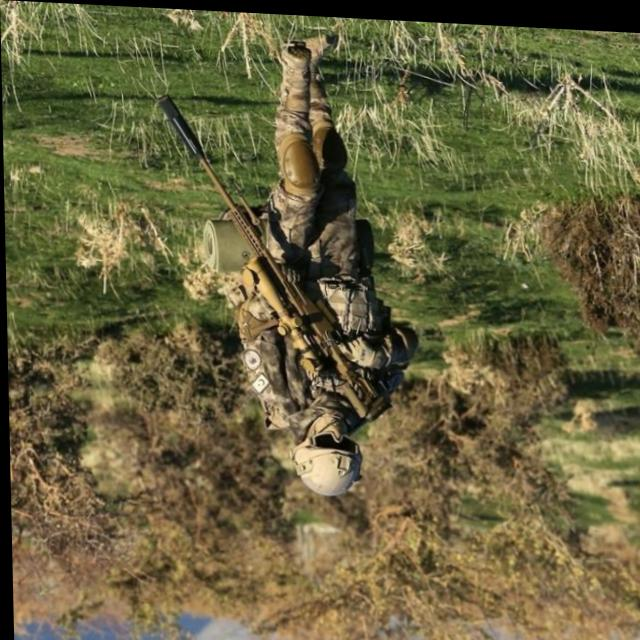poh_personel: (231, 28, 418, 497)
